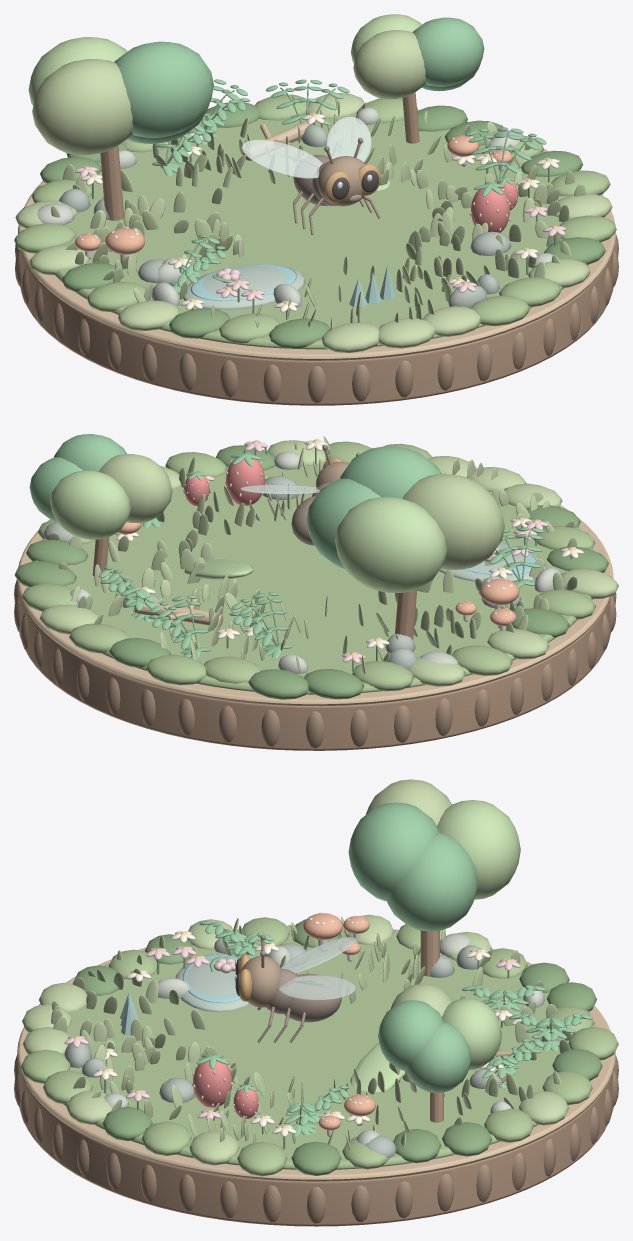
The model's file is makecho-garden.glb.
The picture shows the model from 3 angles, top to bottom: view 1: azimuth 30°, elevation 25°; view 2: azimuth 150°, elevation 25°; view 3: azimuth 270°, elevation 25°; orthographic projection.
Parts seen in each view (by area): view 1: Living_moss_ground, Island_log, Tree_canopy.002, Cut_wood_rim, Tree_canopy.003, Tree_canopy.006, Tree_canopy.007, Pond_rim, Tree_canopy.001, Wing_membrane, Wing_membrane.001, Moss_cushion_22 (+44 smaller); view 2: Living_moss_ground, Island_log, Tree_canopy.001, Cut_wood_rim, Tree_canopy.002, Tree_canopy.005, Tree_canopy.003, Tree_canopy.006, Tree_canopy, Tree_canopy.007, Tree_canopy.004, Moss_cushion_10 (+47 smaller); view 3: Living_moss_ground, Island_log, Cut_wood_rim, Tree_canopy, Tree_canopy.003, Tree_canopy.001, Tree_canopy.004, Tree_canopy.007, Tree_canopy.005, Pond_rim, Abdomen, Tree_canopy.002 (+39 smaller).
Boxes of the visible parts, x1,y1,x2,y2 form: Living_moss_ground: [55, 113, 587, 349]; Island_log: [20, 245, 614, 405]; Tree_canopy.002: [32, 59, 133, 154]; Cut_wood_rim: [18, 121, 615, 360]; Tree_canopy.003: [114, 41, 213, 137]; Tree_canopy.006: [353, 30, 426, 99]; Tree_canopy.007: [412, 17, 484, 86]; Pond_rim: [183, 264, 305, 309]; Tree_canopy.001: [28, 37, 127, 105]; Wing_membrane: [241, 139, 322, 178]; Wing_membrane.001: [326, 116, 371, 162]; Moss_cushion_22: [322, 322, 379, 352]; Living_moss_ground: [33, 462, 593, 694]; Island_log: [18, 591, 610, 750]; Tree_canopy.001: [335, 497, 446, 592]; Cut_wood_rim: [17, 505, 613, 706]; Tree_canopy.002: [402, 474, 504, 569]; Tree_canopy.005: [50, 470, 130, 539]; Tree_canopy.003: [340, 446, 441, 498]; Tree_canopy.006: [99, 454, 172, 522]; Tree_canopy: [306, 478, 381, 568]; Tree_canopy.007: [54, 434, 126, 471]; Tree_canopy.004: [29, 457, 83, 522]; Moss_cushion_10: [248, 669, 308, 699]; Living_moss_ground: [44, 925, 596, 1169]; Island_log: [18, 1066, 614, 1226]; Cut_wood_rim: [17, 925, 615, 1181]; Tree_canopy: [387, 832, 478, 931]; Tree_canopy.003: [348, 802, 439, 901]; Tree_canopy.001: [437, 800, 520, 899]; Tree_canopy.004: [405, 1022, 471, 1092]; Tree_canopy.007: [378, 1000, 443, 1071]; Tree_canopy.005: [442, 998, 502, 1070]; Pond_rim: [175, 955, 250, 1012]; Abdomen: [284, 973, 341, 1022]; Tree_canopy.002: [365, 779, 451, 825].
Bounding box in the file's own units: 9.08 × 3.88 × 9.04.
